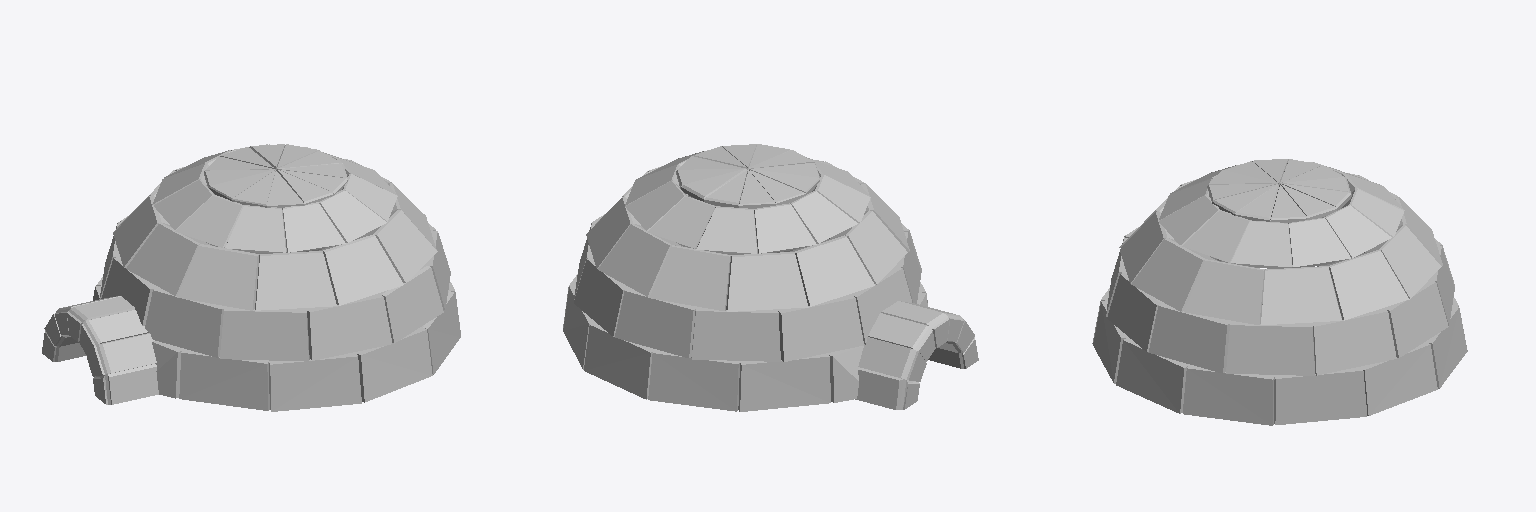
File: igloo.obj
The picture shows the model from 3 angles: view 1: azimuth 30°, elevation 25°; view 2: azimuth 150°, elevation 25°; view 3: azimuth 270°, elevation 25°; orthographic projection.
Parts seen in each view (by area): view 1: igloo.001; view 2: igloo.001; view 3: igloo.001.
Part boxes in pixels (bbox=[...]): igloo.001: bbox=[42, 144, 460, 411]; igloo.001: bbox=[563, 144, 978, 411]; igloo.001: bbox=[1092, 159, 1467, 425].
Bounding box in the file's own units: 42.72 × 18.76 × 38.49.